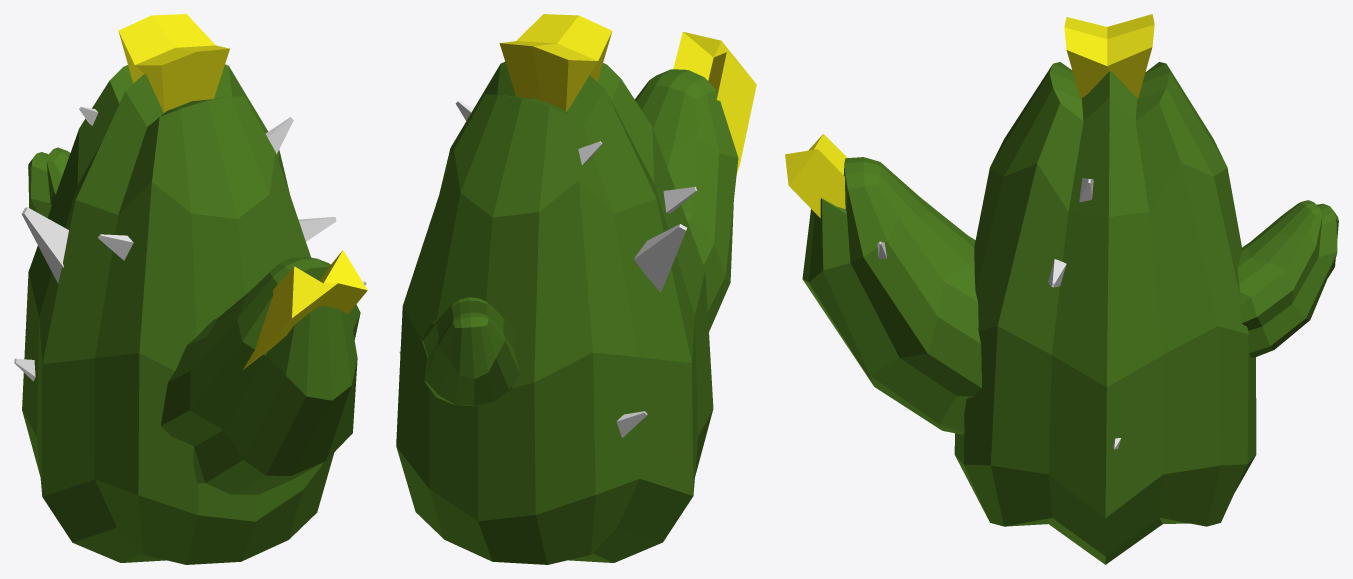
File: Cactus.fbx
The picture shows the model from 3 angles, left to right: view 1: azimuth 30°, elevation 25°; view 2: azimuth 150°, elevation 25°; view 3: azimuth 270°, elevation 25°; orthographic projection. The views are drawn at different scales.
Visible parts, largest first — view 1: Cube, Cube.008, Cube.005, Cube.001, Cube.002; view 2: Cube, Cube.008, Cube.005; view 3: Cube.
Part boxes in pixels (<box>): Cube: <box>22,14,367,564</box>; Cube.008: <box>21,207,68,283</box>; Cube.005: <box>98,234,133,260</box>; Cube.001: <box>298,217,336,241</box>; Cube.002: <box>265,117,293,154</box>; Cube: <box>396,14,756,564</box>; Cube.008: <box>634,224,686,292</box>; Cube.005: <box>663,186,696,213</box>; Cube: <box>785,14,1338,564</box>.
Size of the model in its own units: 1.25 by 2.15 by 2.07.
